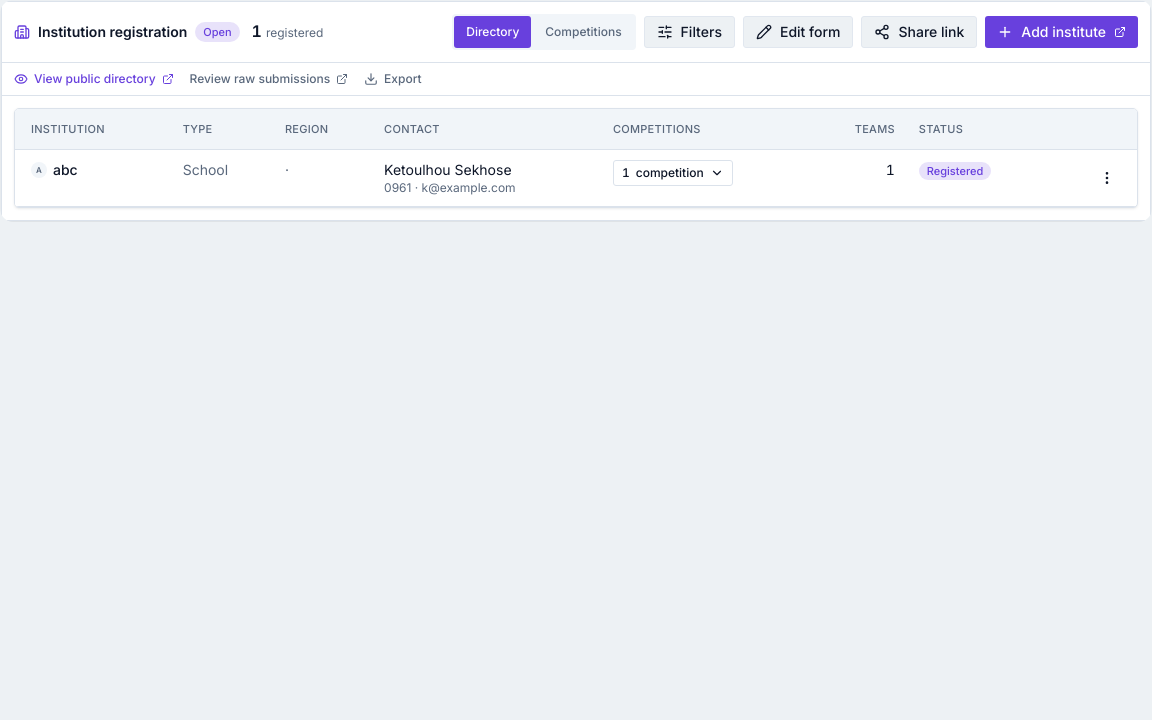
InstitutionsTab › filter tree lists every configured sport, even without entries
Click the button with test id "open-institution-filters".
click(689, 32)  # box [644,16,735,48]
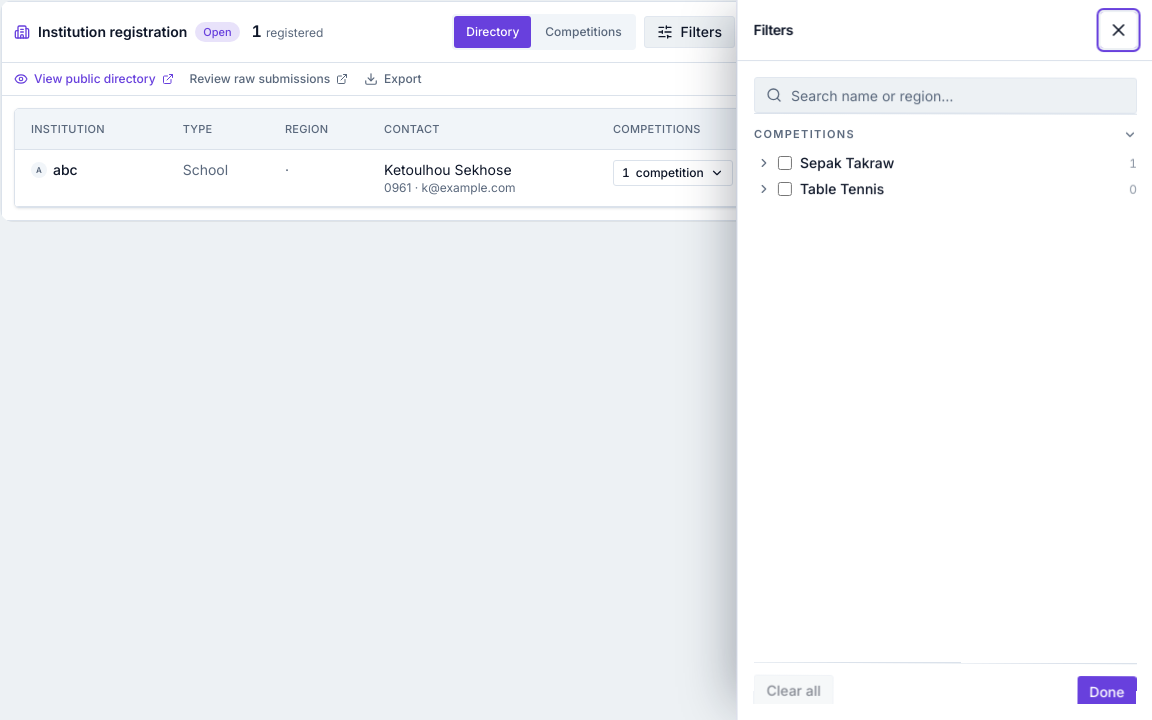
expect the text "Sepak Takraw" is shown: met, box [800,154,894,171]
expect the text "Table Tennis" is shown: met, box [799,180,884,197]
